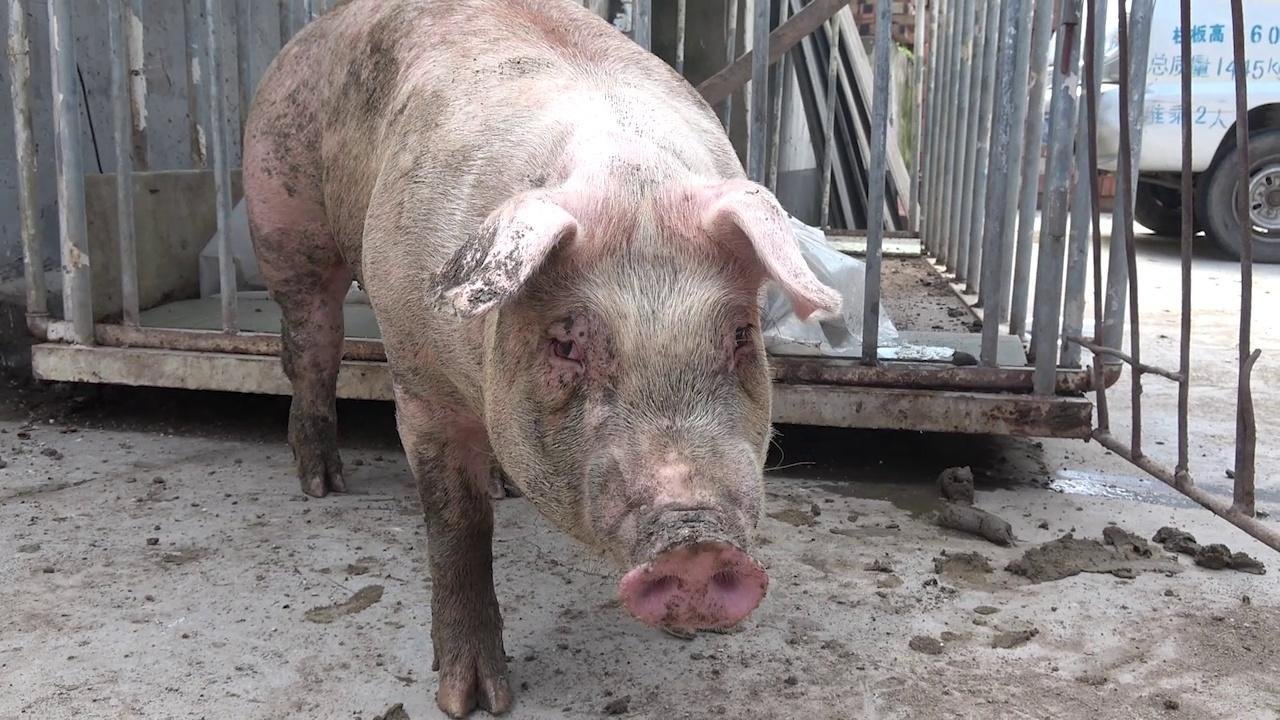Face: (435, 179, 860, 651)
